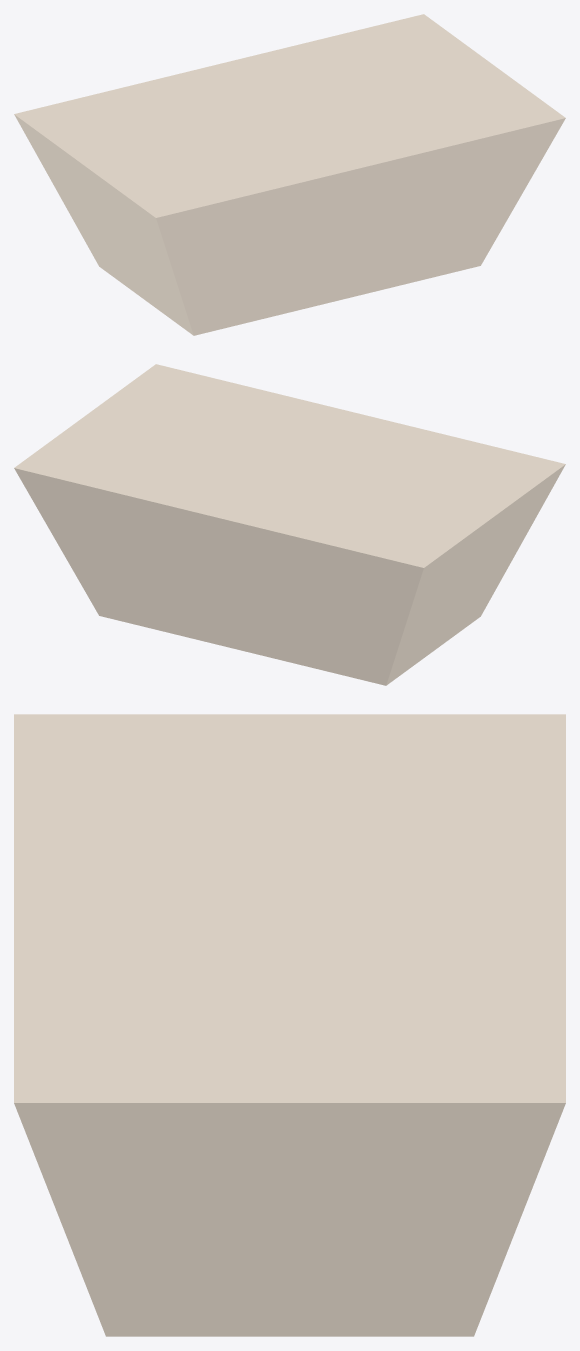
File: loft-side-table.gltf
3 renders of one model, top to bottom at view 1: azimuth 30°, elevation 25°; view 2: azimuth 150°, elevation 25°; view 3: azimuth 270°, elevation 25°, orthographic. The views are drawn at different scales.
Visible parts, largest first — view 1: Loft Side Table; view 2: Loft Side Table; view 3: Loft Side Table.
Boxes of the visible parts, x1,y1,x2,y2 form: Loft Side Table: (14,14,565,335); Loft Side Table: (14,364,565,685); Loft Side Table: (14,714,565,1336).
Size of the model in its own units: 1 by 0.35 by 0.6.
